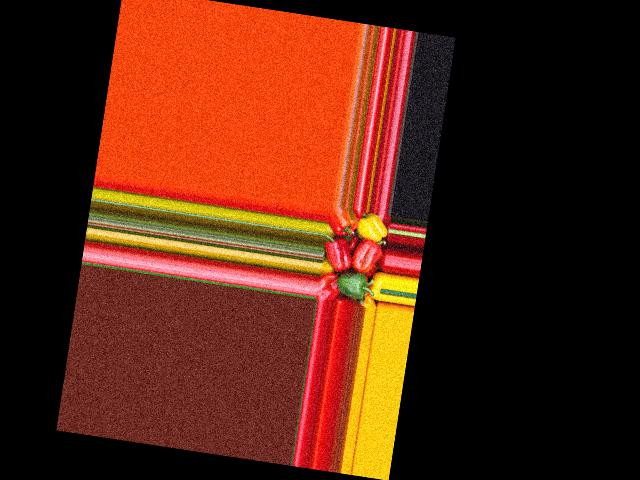bell_pepper: (353, 211, 391, 245)
